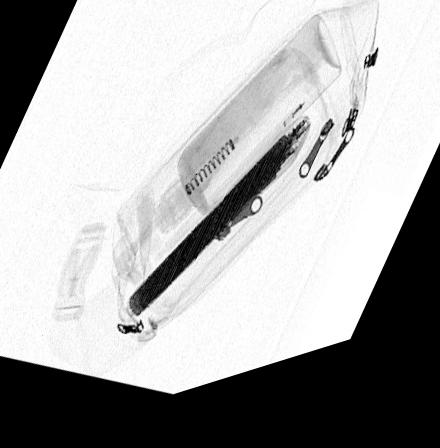Powerbank: (123, 133, 312, 330)
